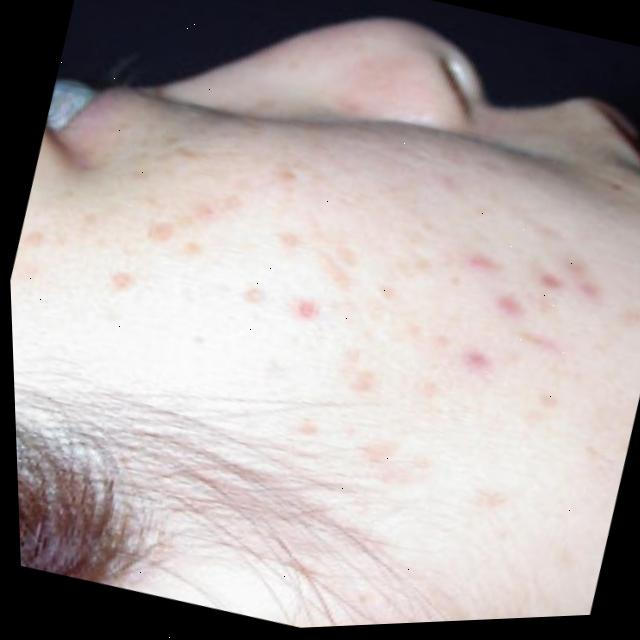Acne: (114, 88, 574, 521)
